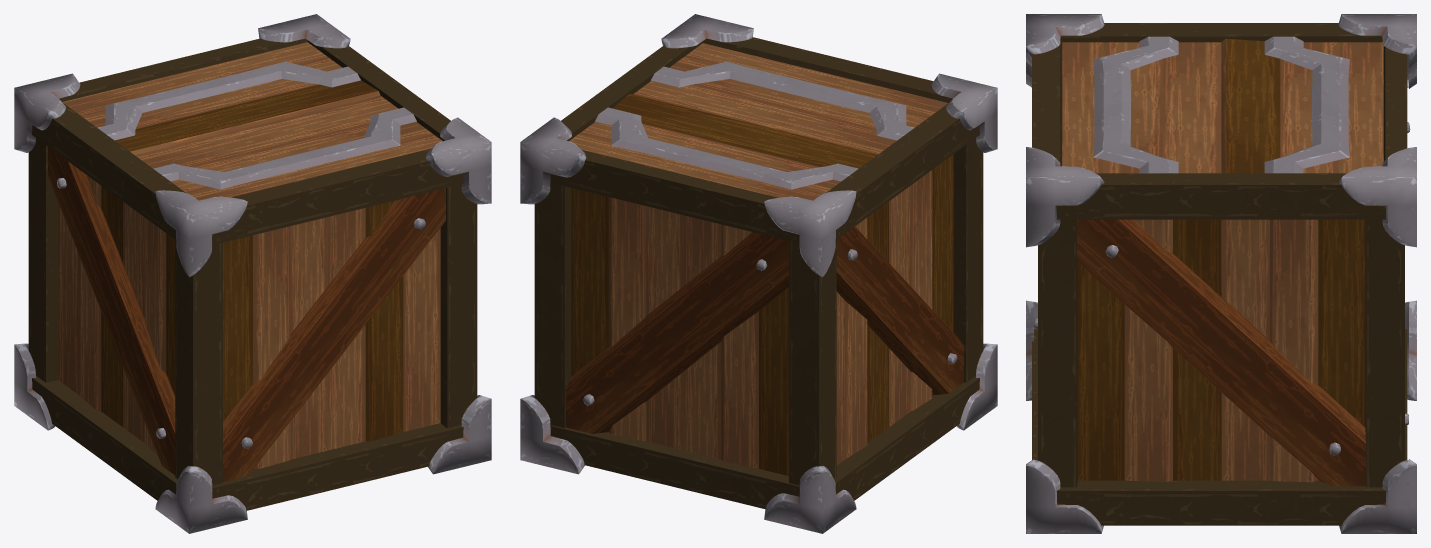
File: Crate_Metal.gltf
3 renders of one model, left to right at view 1: azimuth 30°, elevation 25°; view 2: azimuth 150°, elevation 25°; view 3: azimuth 270°, elevation 25°, orthographic. The views are drawn at different scales.
Visible parts, largest first — view 1: Crate_Metal; view 2: Crate_Metal; view 3: Crate_Metal.
Part boxes in pixels (x1,y1,x2,y2): Crate_Metal: (14,14,491,533); Crate_Metal: (520,14,997,533); Crate_Metal: (1026,14,1416,533).
Size of the model in its own units: 0.8639 by 0.8679 by 0.8659.
Materials: 2 (2 with a texture image).
